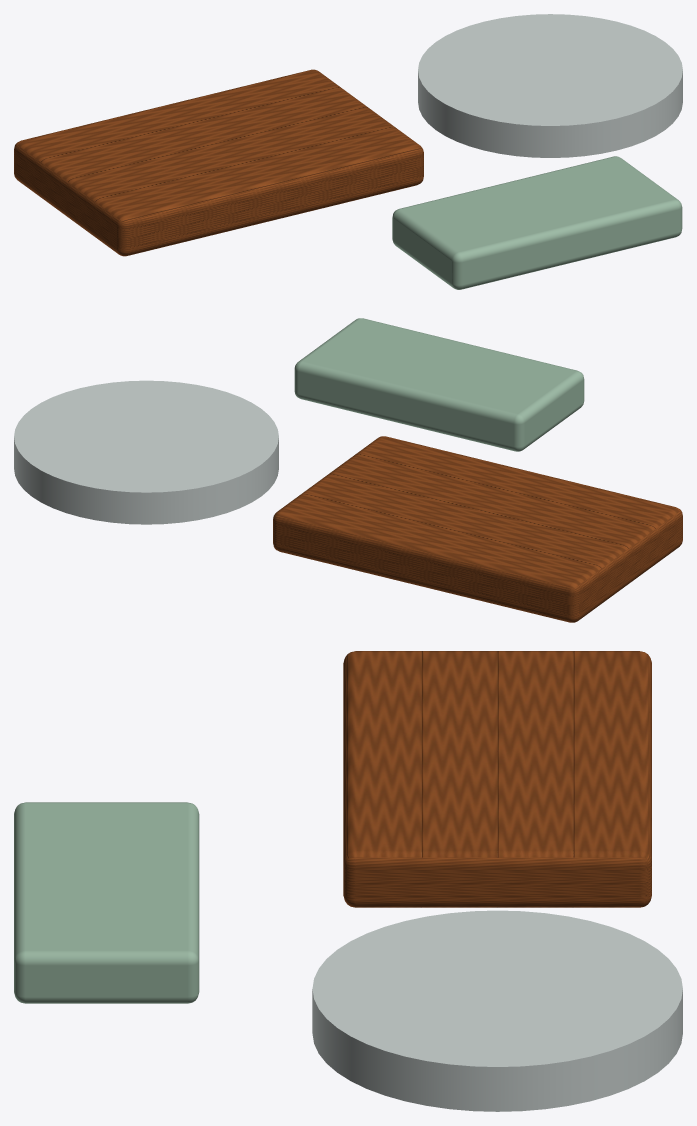
The model's file is ceramics-pottery-studio-pottery-rib-set-378cc27c__29500.glb.
3 views of the same model, one above another, from view 1: azimuth 30°, elevation 25°; view 2: azimuth 150°, elevation 25°; view 3: azimuth 270°, elevation 25° (orthographic). The views are drawn at different scales.
Visible parts, largest first — view 1: pottery-rib-set; view 2: pottery-rib-set; view 3: pottery-rib-set.
Part boxes in pixels (box(x1,y1,x2,y2)): pottery-rib-set: box(14, 14, 682, 289); pottery-rib-set: box(14, 318, 682, 622); pottery-rib-set: box(14, 651, 682, 1111).
Bounding box in the file's own units: 0.235 × 0.015 × 0.1625.
Materials: 3 (1 with a texture image).
